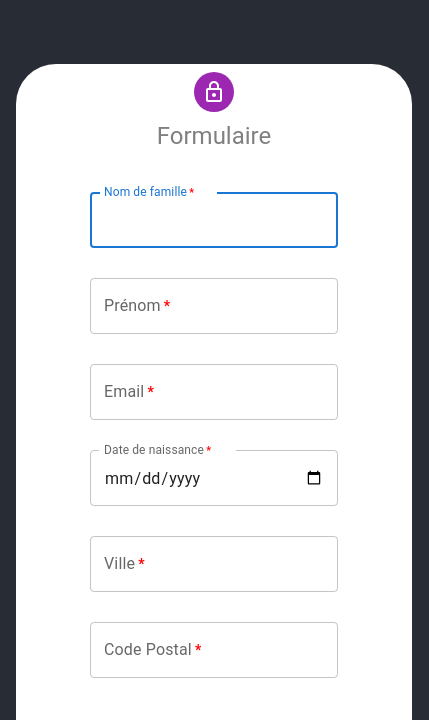
Test case: Test d'intégration de l'application › validation formulaire
In the field labelled "Nom de famille *": x=214, y=220 left=90, top=192, right=338, bottom=248, type "test"
In the field labelled "Prénom *": x=214, y=306 left=90, top=278, right=338, bottom=334, type "test"
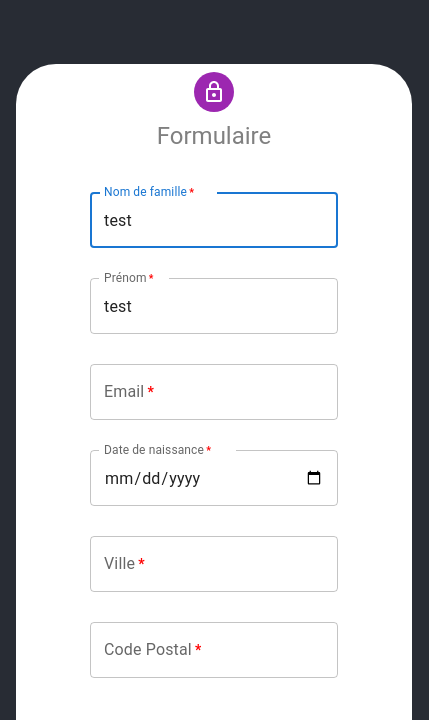
In the field labelled "Email *": x=214, y=392 left=90, top=364, right=338, bottom=420, type "test@test.fr"
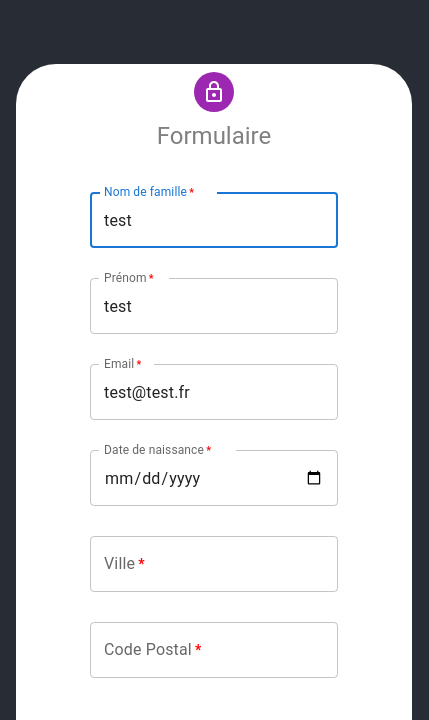
In the date field labelled "Date de naissance *": x=214, y=478 left=90, top=450, right=338, bottom=506, type "2000-09-01"
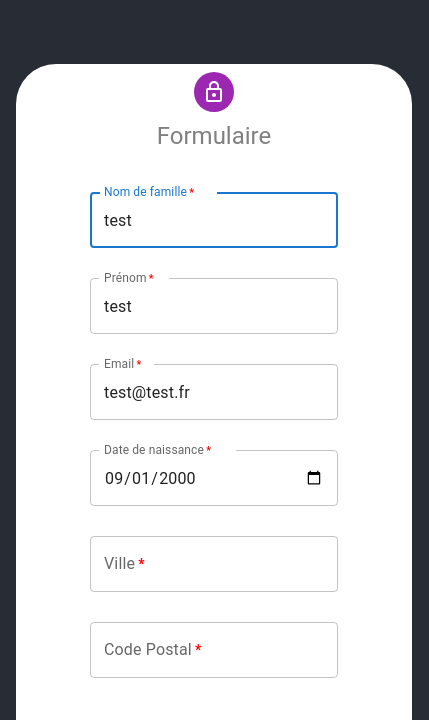
In the field labelled "Ville *": x=214, y=564 left=90, top=536, right=338, bottom=592, type "test"
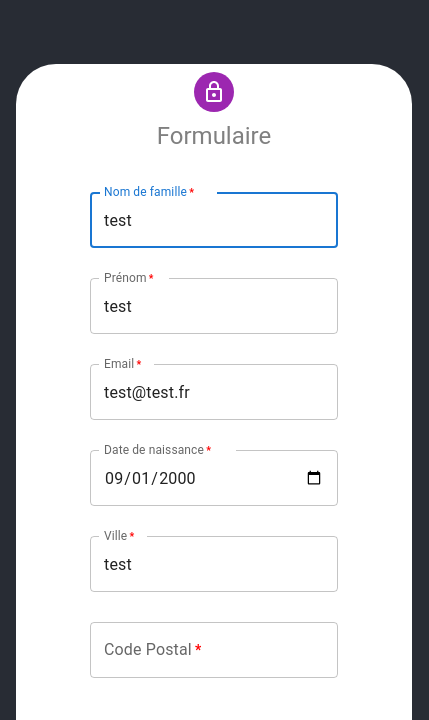
In the field labelled "Code Postal *": x=214, y=650 left=90, top=622, right=338, bottom=678, type "06250"
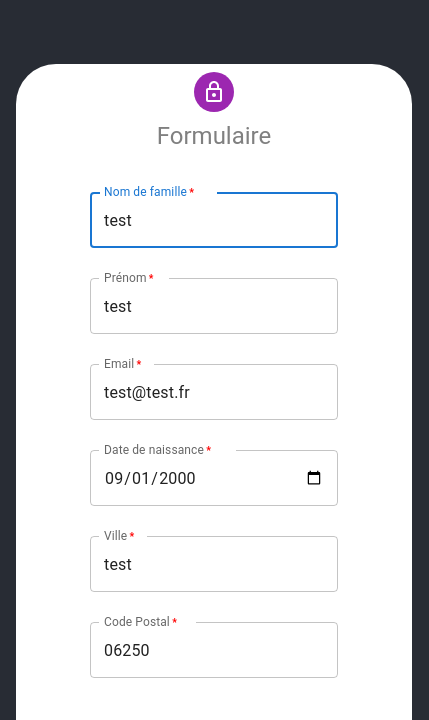
Clear the field labelled "Nom de famille *": x=214, y=220 left=90, top=192, right=338, bottom=248
(page scrolled)
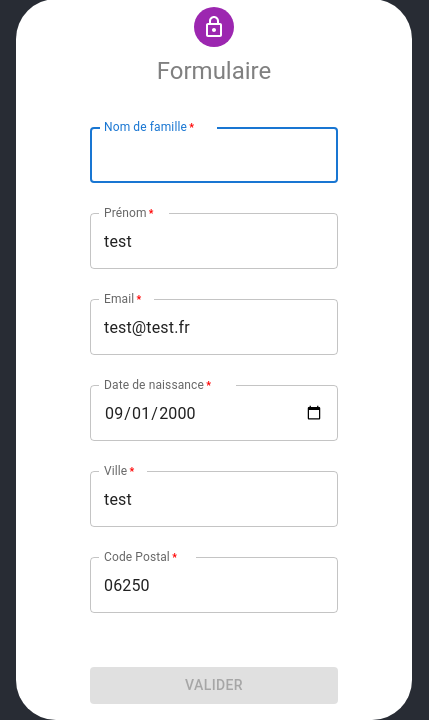
Check: the button "Valider" is disabled, box left=90, top=667, right=338, bottom=704
